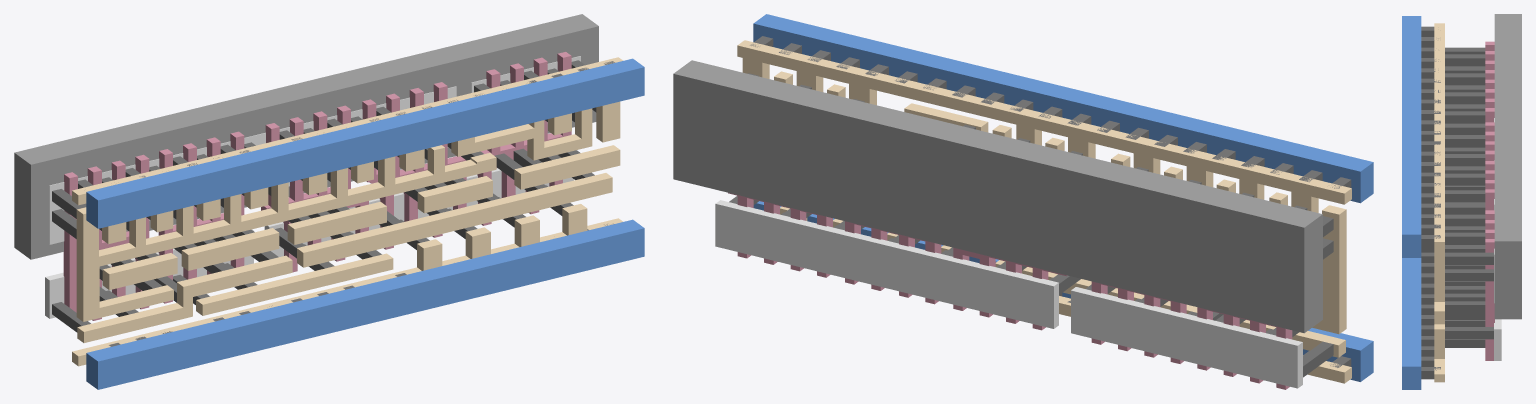
The model's file is sky130_fd_sc_hd__o2111ai_4.gds.gltf.
The picture shows the model from 3 angles, left to right: view 1: azimuth 30°, elevation 25°; view 2: azimuth 150°, elevation 25°; view 3: azimuth 270°, elevation 25°; orthographic projection. The views are drawn at different scales.
Visible parts, largest first — view 1: sky130_fd_sc_hd__o2111ai_4_li1, sky130_fd_sc_hd__o2111ai_4_met1, sky130_fd_sc_hd__o2111ai_4_nwell, sky130_fd_sc_hd__o2111ai_4_poly, sky130_fd_sc_hd__o2111ai_4_licon, sky130_fd_sc_hd__o2111ai_4_diff, sky130_fd_sc_hd__o2111ai_4_mcon; view 2: sky130_fd_sc_hd__o2111ai_4_nwell, sky130_fd_sc_hd__o2111ai_4_diff, sky130_fd_sc_hd__o2111ai_4_li1, sky130_fd_sc_hd__o2111ai_4_met1, sky130_fd_sc_hd__o2111ai_4_poly, sky130_fd_sc_hd__o2111ai_4_mcon, sky130_fd_sc_hd__o2111ai_4_licon; view 3: sky130_fd_sc_hd__o2111ai_4_licon, sky130_fd_sc_hd__o2111ai_4_nwell, sky130_fd_sc_hd__o2111ai_4_met1, sky130_fd_sc_hd__o2111ai_4_mcon, sky130_fd_sc_hd__o2111ai_4_li1, sky130_fd_sc_hd__o2111ai_4_poly, sky130_fd_sc_hd__o2111ai_4_diff.
Boxes of the visible parts, bbox=[...] form: sky130_fd_sc_hd__o2111ai_4_li1: bbox=[72, 57, 622, 366]; sky130_fd_sc_hd__o2111ai_4_met1: bbox=[86, 58, 644, 389]; sky130_fd_sc_hd__o2111ai_4_nwell: bbox=[14, 14, 598, 259]; sky130_fd_sc_hd__o2111ai_4_poly: bbox=[63, 52, 571, 320]; sky130_fd_sc_hd__o2111ai_4_licon: bbox=[52, 60, 596, 332]; sky130_fd_sc_hd__o2111ai_4_diff: bbox=[45, 56, 580, 318]; sky130_fd_sc_hd__o2111ai_4_mcon: bbox=[109, 61, 614, 346]; sky130_fd_sc_hd__o2111ai_4_nwell: bbox=[673, 60, 1322, 333]; sky130_fd_sc_hd__o2111ai_4_diff: bbox=[715, 200, 1302, 388]; sky130_fd_sc_hd__o2111ai_4_li1: bbox=[737, 40, 1351, 383]; sky130_fd_sc_hd__o2111ai_4_met1: bbox=[753, 14, 1373, 381]; sky130_fd_sc_hd__o2111ai_4_poly: bbox=[728, 192, 1292, 389]; sky130_fd_sc_hd__o2111ai_4_mcon: bbox=[750, 36, 1351, 367]; sky130_fd_sc_hd__o2111ai_4_licon: bbox=[729, 73, 1333, 377]; sky130_fd_sc_hd__o2111ai_4_licon: bbox=[1445, 47, 1493, 347]; sky130_fd_sc_hd__o2111ai_4_nwell: bbox=[1494, 14, 1521, 319]; sky130_fd_sc_hd__o2111ai_4_met1: bbox=[1402, 16, 1421, 389]; sky130_fd_sc_hd__o2111ai_4_mcon: bbox=[1421, 26, 1440, 379]; sky130_fd_sc_hd__o2111ai_4_li1: bbox=[1434, 23, 1444, 382]; sky130_fd_sc_hd__o2111ai_4_poly: bbox=[1485, 41, 1494, 360]; sky130_fd_sc_hd__o2111ai_4_diff: bbox=[1494, 118, 1501, 360].
Bounding box in the file's own units: 10.04 × 3.2 × 2.24.
